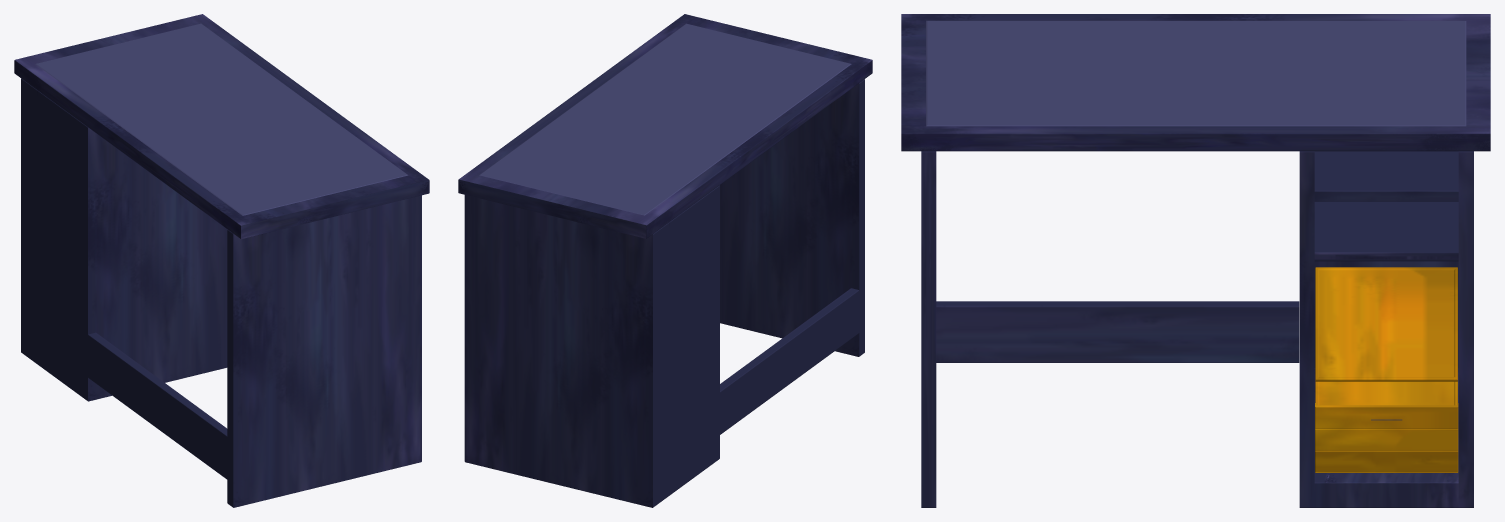
Rendered from obj_Desk.obj.
The picture shows the model from 3 angles, left to right: view 1: azimuth 30°, elevation 25°; view 2: azimuth 150°, elevation 25°; view 3: azimuth 270°, elevation 25°; orthographic projection. The views are drawn at different scales.
Parts seen in each view (by area): view 1: obj_Desk, obj_Desk_cover; view 2: obj_Desk, obj_Desk_cover; view 3: obj_Desk, obj_Desk_cover, obj_Desk_rolling-drawer_shelves.002, obj_Desk_rolling-drawer, obj_Desk_rolling-drawer_shelves.003.
Boxes of the visible parts, x1,y1,x2,y2 form: obj_Desk: (14,14,429,507); obj_Desk_cover: (35,23,408,215); obj_Desk: (458,14,872,507); obj_Desk_cover: (479,23,851,215); obj_Desk: (901,14,1490,507); obj_Desk_cover: (926,20,1466,126); obj_Desk_rolling-drawer_shelves.002: (1315,267,1457,381); obj_Desk_rolling-drawer: (1315,403,1458,472); obj_Desk_rolling-drawer_shelves.003: (1315,381,1457,405).
Bounding box in the file's own units: 0.8476 × 1.23 × 1.76.
